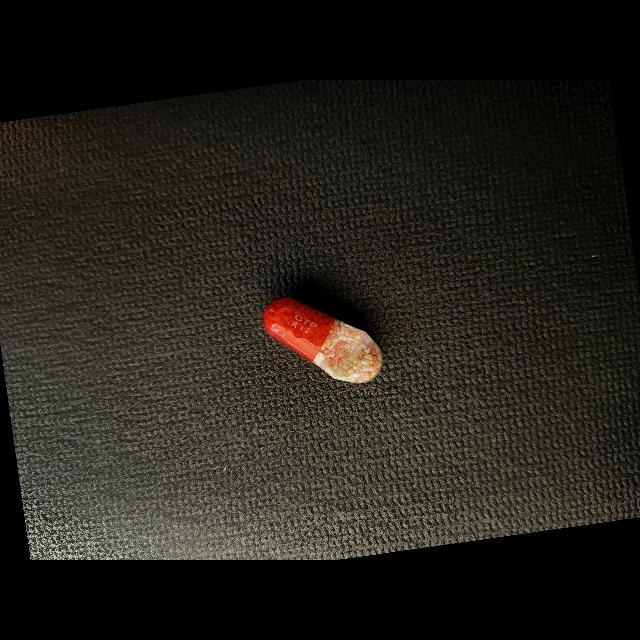Defective Capsule: (263, 297, 382, 383)
